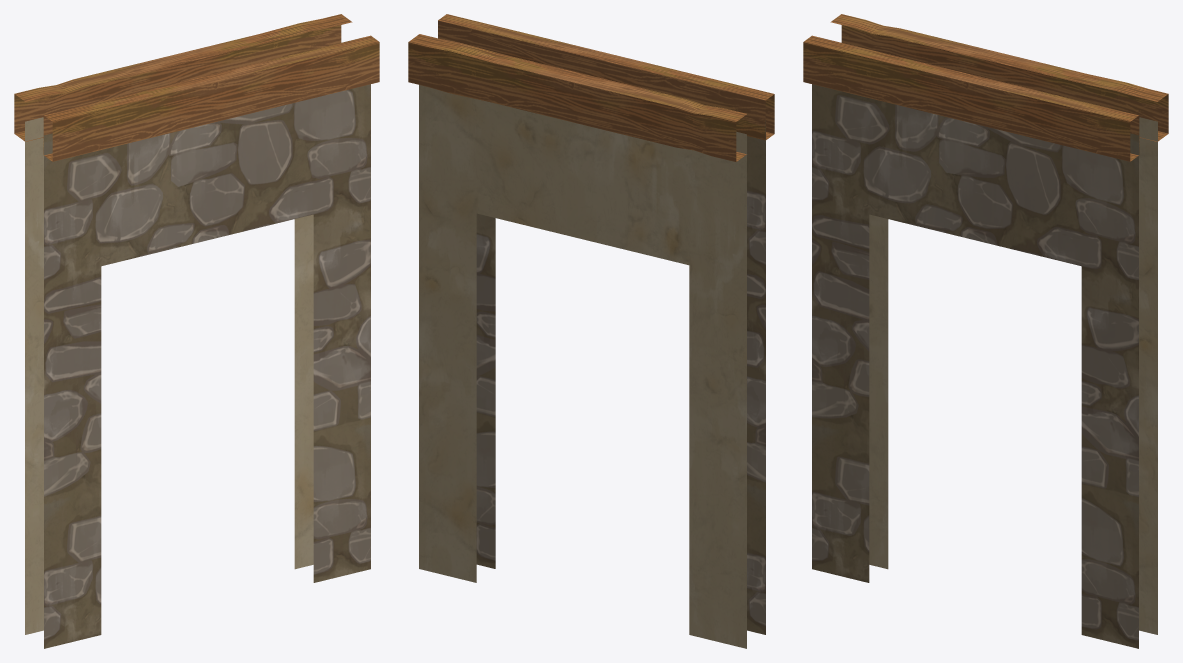
3 renders of one model, left to right at view 1: azimuth 30°, elevation 25°; view 2: azimuth 150°, elevation 25°; view 3: azimuth 330°, elevation 25°, orthographic.
Parts seen in each view (by area): view 1: Wall_UnevenBrick_Door_Flat; view 2: Wall_UnevenBrick_Door_Flat; view 3: Wall_UnevenBrick_Door_Flat.
Part boxes in pixels (bbox=[...]): Wall_UnevenBrick_Door_Flat: bbox=[14, 14, 379, 648]; Wall_UnevenBrick_Door_Flat: bbox=[408, 14, 774, 648]; Wall_UnevenBrick_Door_Flat: bbox=[803, 14, 1168, 648].
Size of the model in its own units: 2 by 3.12 by 0.4065.
Materials: 3 (3 with a texture image).
